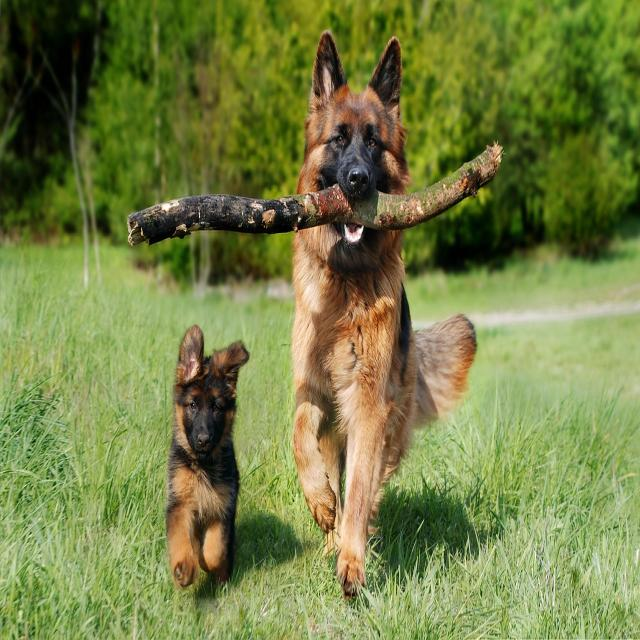dog: (292, 31, 476, 591), (168, 328, 248, 586)
